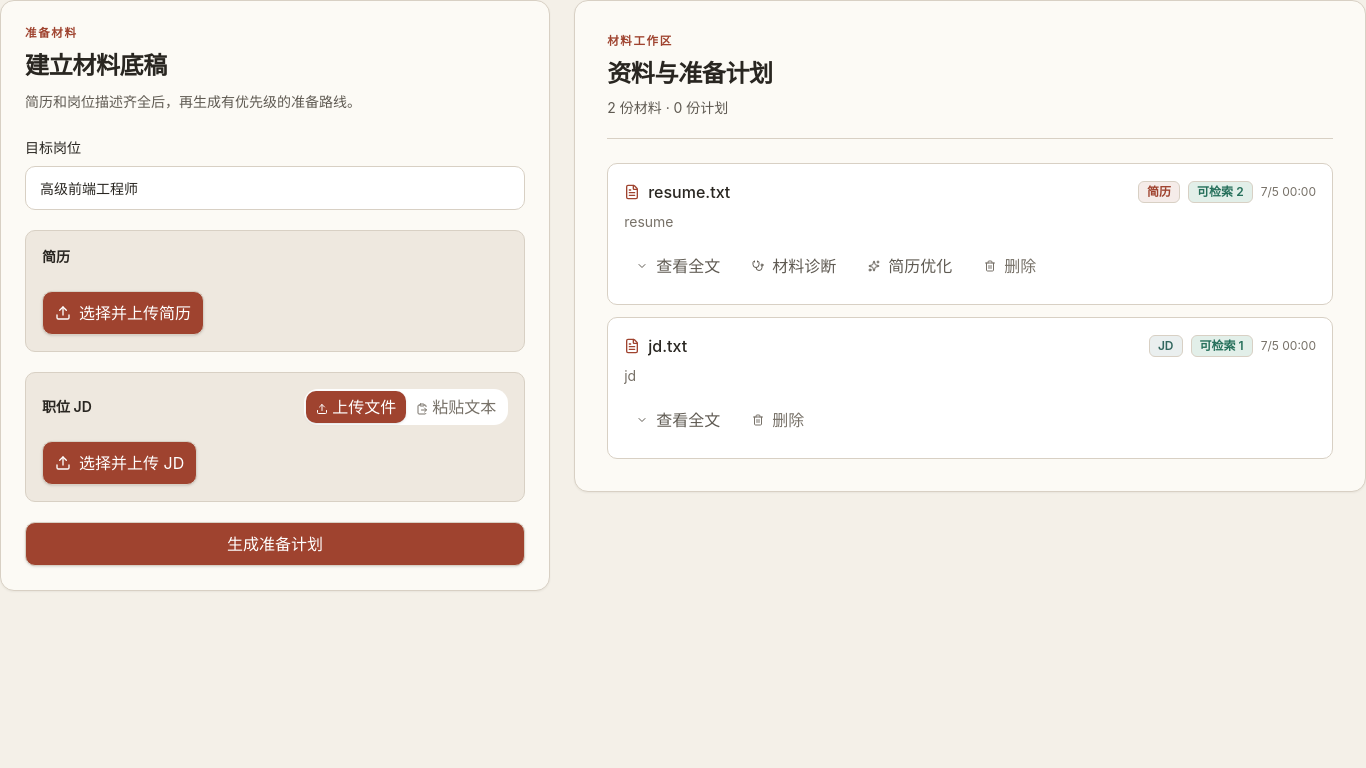
Test: DocumentsPage embedding status › shows AI fallback notice from streamed plan generation
This screenshot has width=1366, height=768.
Click the button "生成准备计划": (275, 544) [25,522,525,566]
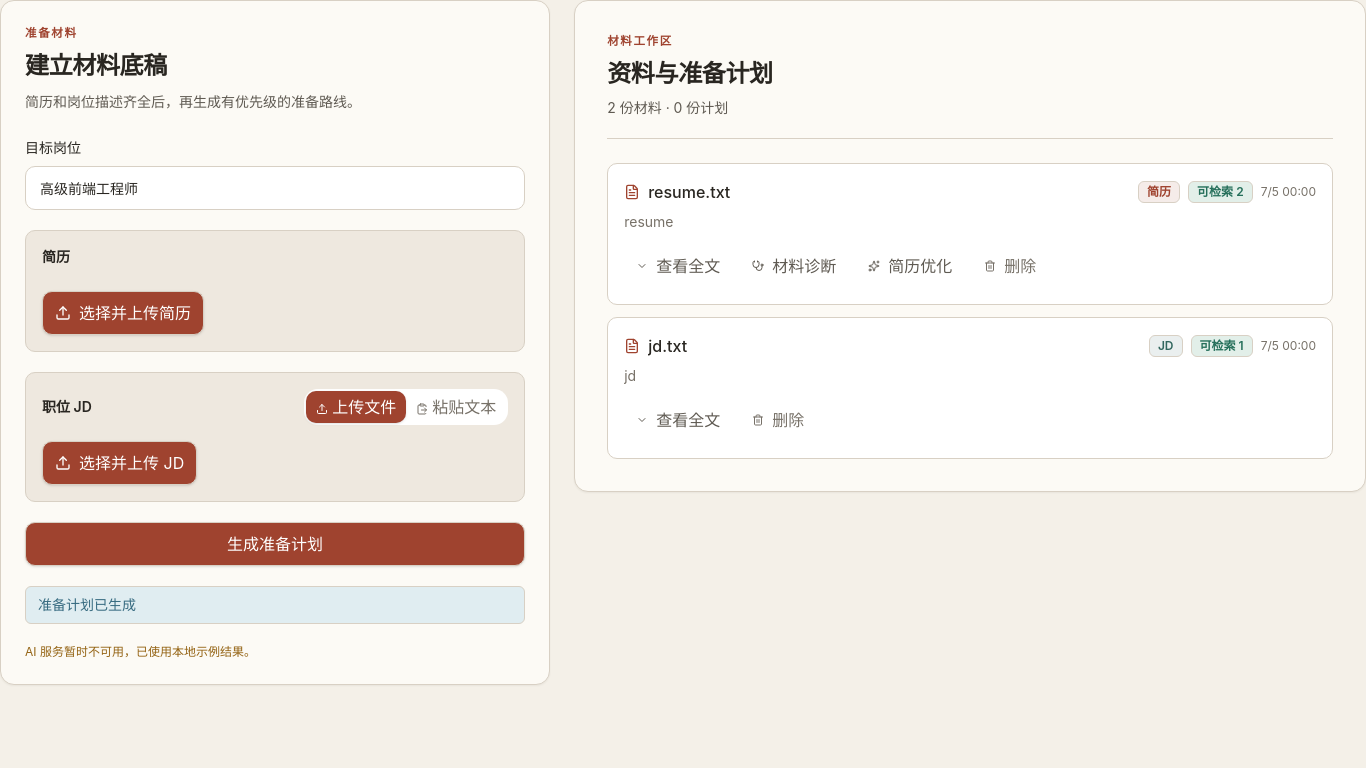
Expected: the text "AI 服务暂时不可用，已使用本地示例结果。" is shown, [25,644,256,659]
